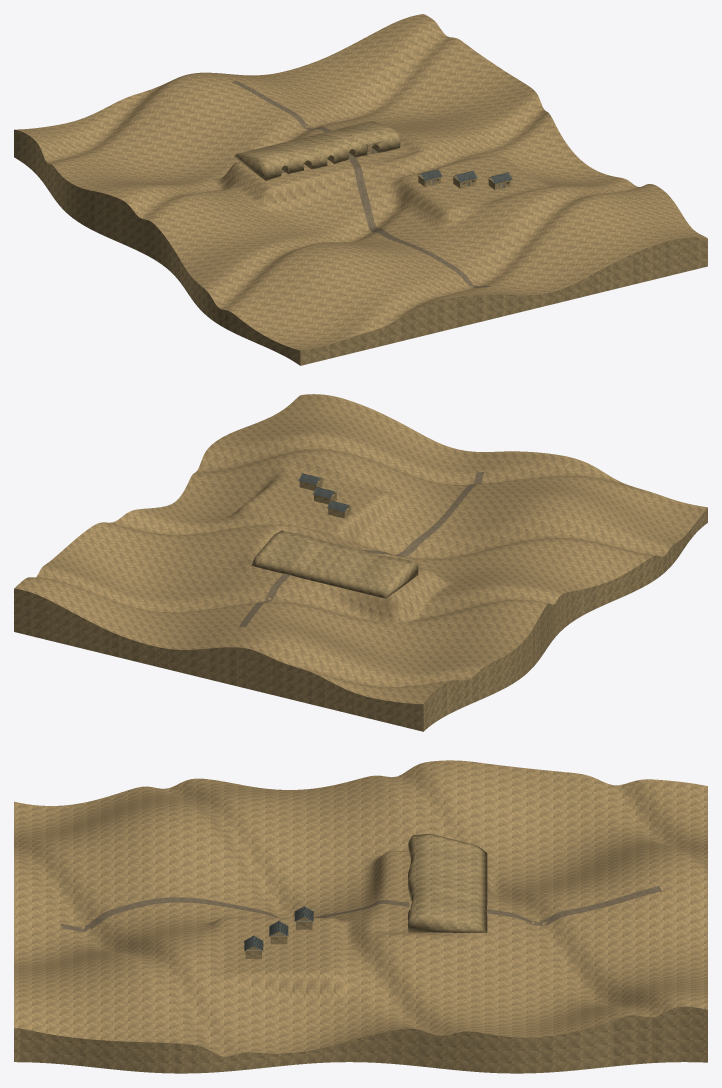
Rendered from ch11_wuqi_settlement.glb.
3 renders of one model, top to bottom at view 1: azimuth 30°, elevation 25°; view 2: azimuth 150°, elevation 25°; view 3: azimuth 270°, elevation 25°, orthographic. The views are drawn at different scales.
Visible parts, largest first — view 1: terrain__eroded_landscape, terrain_boundary__closed_earth_boundary, ContinuousExcavatedLoessBank__NaturalLoessBank, settlement_road__settlement_road; view 2: terrain__eroded_landscape, terrain_boundary__closed_earth_boundary, ContinuousExcavatedLoessBank__NaturalLoessBank, settlement_road__settlement_road; view 3: terrain__eroded_landscape, terrain_boundary__closed_earth_boundary, ContinuousExcavatedLoessBank__NaturalLoessBank, settlement_road__settlement_road.
Part boxes in pixels (box(x1,y1,x2,y2)): terrain__eroded_landscape: box(15, 14, 707, 350); terrain_boundary__closed_earth_boundary: box(14, 129, 707, 365); ContinuousExcavatedLoessBank__NaturalLoessBank: box(233, 121, 400, 180); settlement_road__settlement_road: box(232, 81, 490, 287); terrain__eroded_landscape: box(14, 394, 707, 704); terrain_boundary__closed_earth_boundary: box(14, 508, 707, 731); ContinuousExcavatedLoessBank__NaturalLoessBank: box(251, 530, 418, 598); settlement_road__settlement_road: box(238, 472, 484, 627); terrain__eroded_landscape: box(14, 760, 707, 1056); terrain_boundary__closed_earth_boundary: box(14, 1006, 707, 1073); ContinuousExcavatedLoessBank__NaturalLoessBank: box(408, 833, 487, 932); settlement_road__settlement_road: box(60, 886, 661, 931).
Size of the model in its own units: 199 by 21.85 by 220.
Materials: 5 (5 with a texture image).
